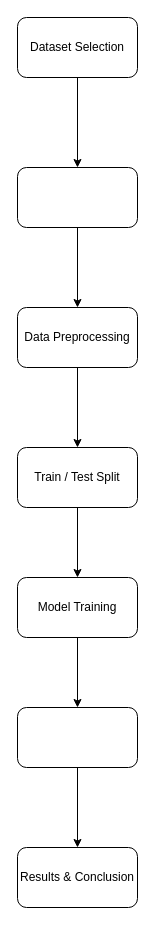
Image size: 155x925. Some labels were removed from this diagram. The shapes that lost their labels are listed below. From the top down, each one's centre as x and y in pixels, then its label:
At point (77, 197): "Data Loading".
At point (77, 737): "Model Evaluation".
